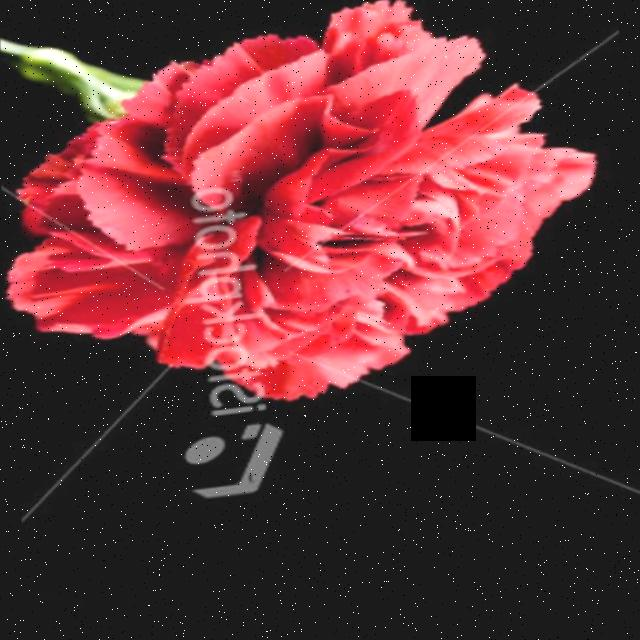carnation: (0, 0, 609, 438)
